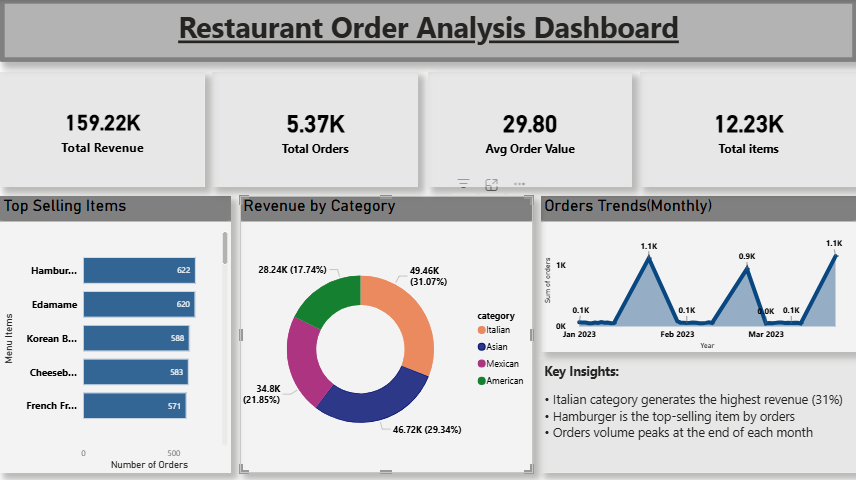

What the dashboard file says about the page in this screenshot:
{"tool":"powerbi","page":{"name":"Page 1","canvas":[1280,720],"ordinal":0},"visuals":[{"type":"card","fields":{"Values":["Sum(total_revenue.sum)"]},"box":[0,0,306.2,227.1],"z":0},{"type":"clusteredBarChart","title":"Top Selling Items","fields":{"Category":["top_items.item_name"],"Y":["Sum(top_items.orders)"]},"box":[0,227.1,345.1,492.9],"z":1000},{"type":"lineChart","title":"Orders Trends(Monthly)","fields":{"Y":["Sum(orders_over_time.orders)"],"Category":["orders_over_time.order_date.Variation.Date Hierarchy.Year","orders_over_time.order_date.Variation.Date Hierarchy.Quarter","orders_over_time.order_date.Variation.Date Hierarchy.Month","orders_over_time.order_date.Variation.Date Hierarchy.Day"]},"box":[796.2,227.1,484,310.7],"z":2000},{"type":"donutChart","title":"Revenue by Category","fields":{"Y":["Sum(revenue_by_category.revenue)"],"Category":["revenue_by_category.category"]},"box":[345.1,227.1,451.1,492.9],"z":3000},{"type":"card","fields":{"Values":["Sum(Total orders.total_orders)"]},"box":[306.2,0,318.2,227.1],"z":4000},{"type":"card","fields":{"Values":["Sum(avearge order value.avg_order_value)"]},"box":[624.4,0,319.7,227.1],"z":5000},{"type":"card","fields":{"Values":["Sum(total item sold.total_items)"]},"box":[944,0,336,227],"z":6000},{"type":"textbox","box":[796.2,537.8,484,182.2],"z":7000}]}

Visuals, with their boxes in screenshot pixels (x1, y1, x2, y2), scaled from the page's 1280x720 canvas onto the 856x480 screenshot:
card - Sum(total_revenue.sum): [left=0, top=0, right=205, bottom=151]
"Top Selling Items" clusteredBarChart: [left=0, top=151, right=231, bottom=479]
"Orders Trends(Monthly)" lineChart: [left=532, top=151, right=855, bottom=359]
"Revenue by Category" donutChart: [left=231, top=151, right=532, bottom=479]
card - Sum(Total orders.total_orders): [left=205, top=0, right=418, bottom=151]
card - Sum(avearge order value.avg_order_value): [left=418, top=0, right=631, bottom=151]
card - Sum(total item sold.total_items): [left=631, top=0, right=855, bottom=151]
textbox: [left=532, top=359, right=855, bottom=479]
